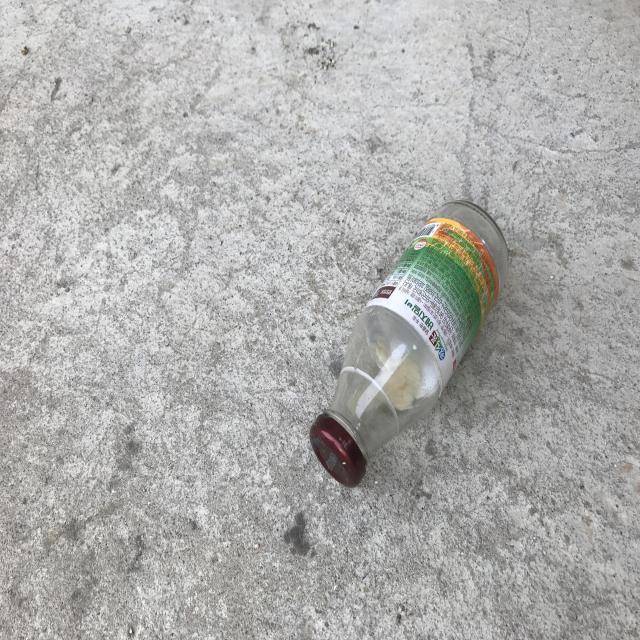glass: (310, 200, 509, 486)
